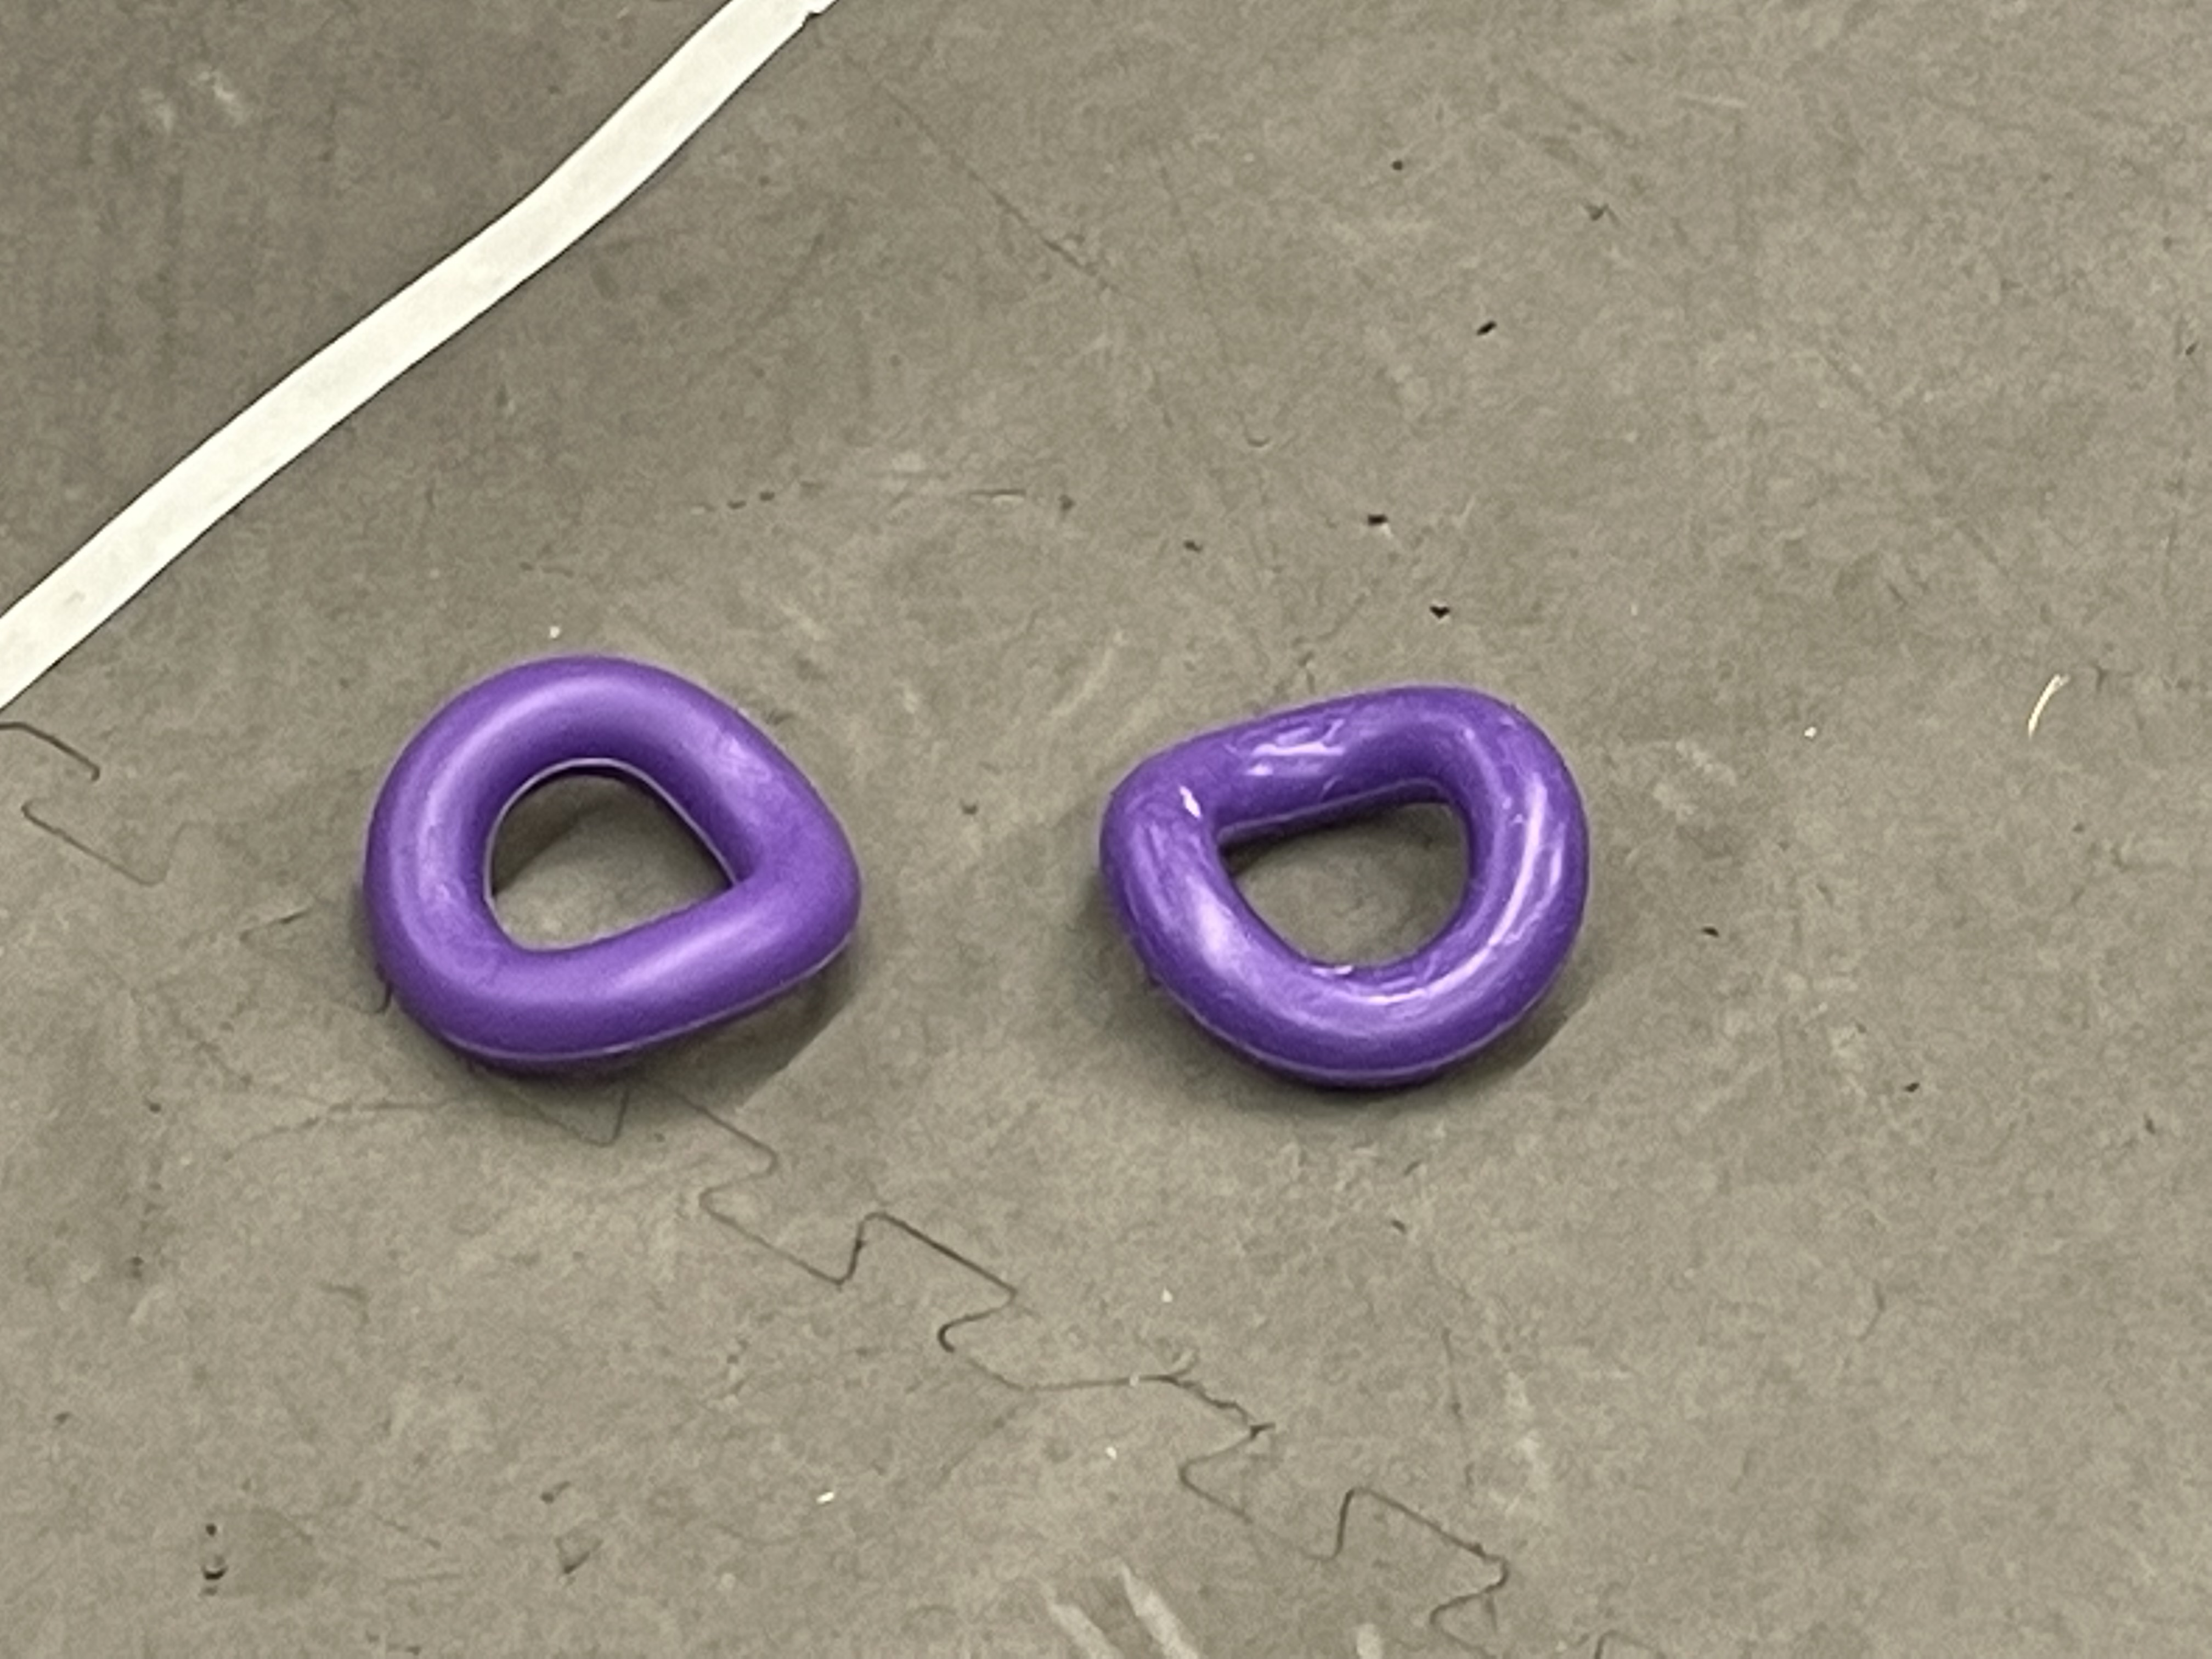ring: (357, 650, 864, 1077), (1096, 685, 1590, 1096)
